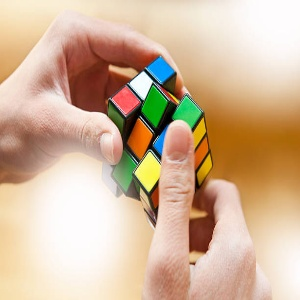cube: (101, 55, 215, 231)
